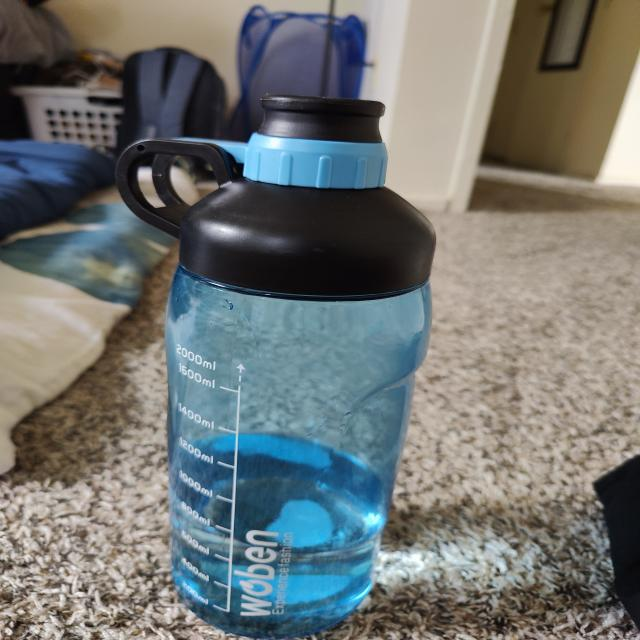bottle: (115, 96, 445, 621)
